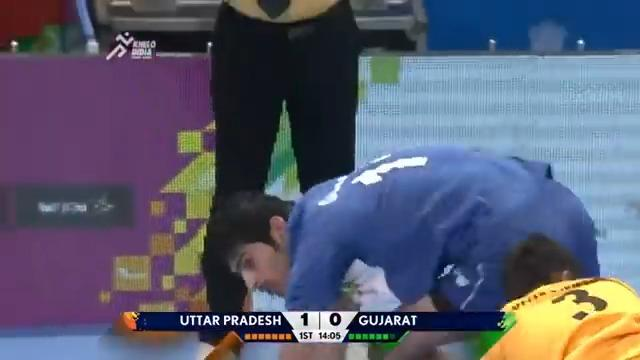Player: (498, 244, 626, 360)
Raider: (202, 143, 601, 315)
referee: (207, 0, 362, 208)
